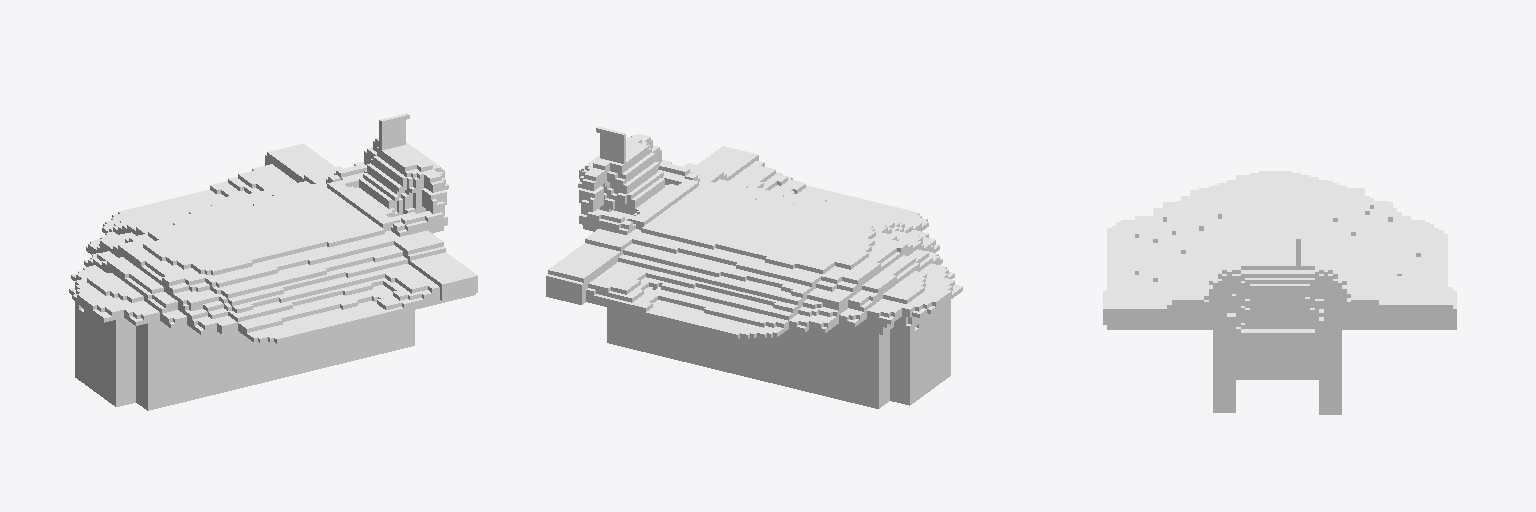
The model's file is goodnight-moon-14-awake2.obj.
3 views of the same model, side by side, from view 1: azimuth 30°, elevation 25°; view 2: azimuth 150°, elevation 25°; view 3: azimuth 270°, elevation 25° (orthographic).
Visible parts, largest first — view 1: awake2; view 2: awake2; view 3: awake2.
Part boxes in pixels (x1,y1,x2,y2): awake2: (69,113,477,410); awake2: (546,126,962,408); awake2: (1103,171,1456,414).
Bounding box in the file's own units: 8.7 × 4.6 × 7.7.